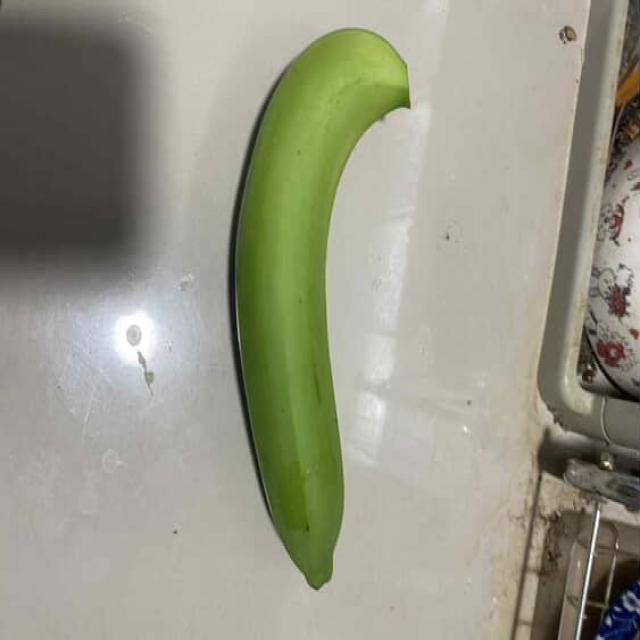Raw: (223, 11, 420, 587)
